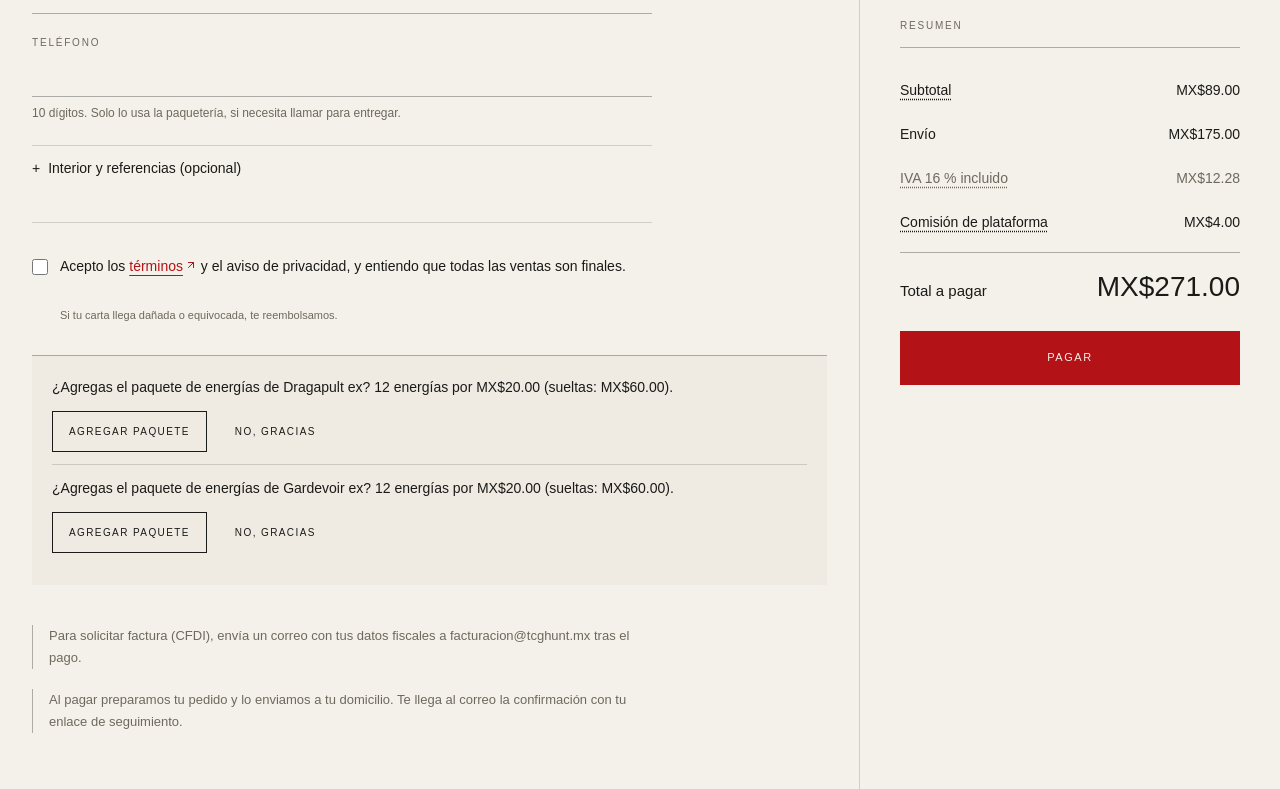
Test: AC-F5 · la oferta del paquete, una vez por deck › «Agregar paquete» pone withEnergyBundle:true y la fila no vuelve; «No, gracias» también la retira
(page scrolled)
Click the 1st button "Agregar paquete" at (129,431), box [52,411,207,452]
(page scrolled)
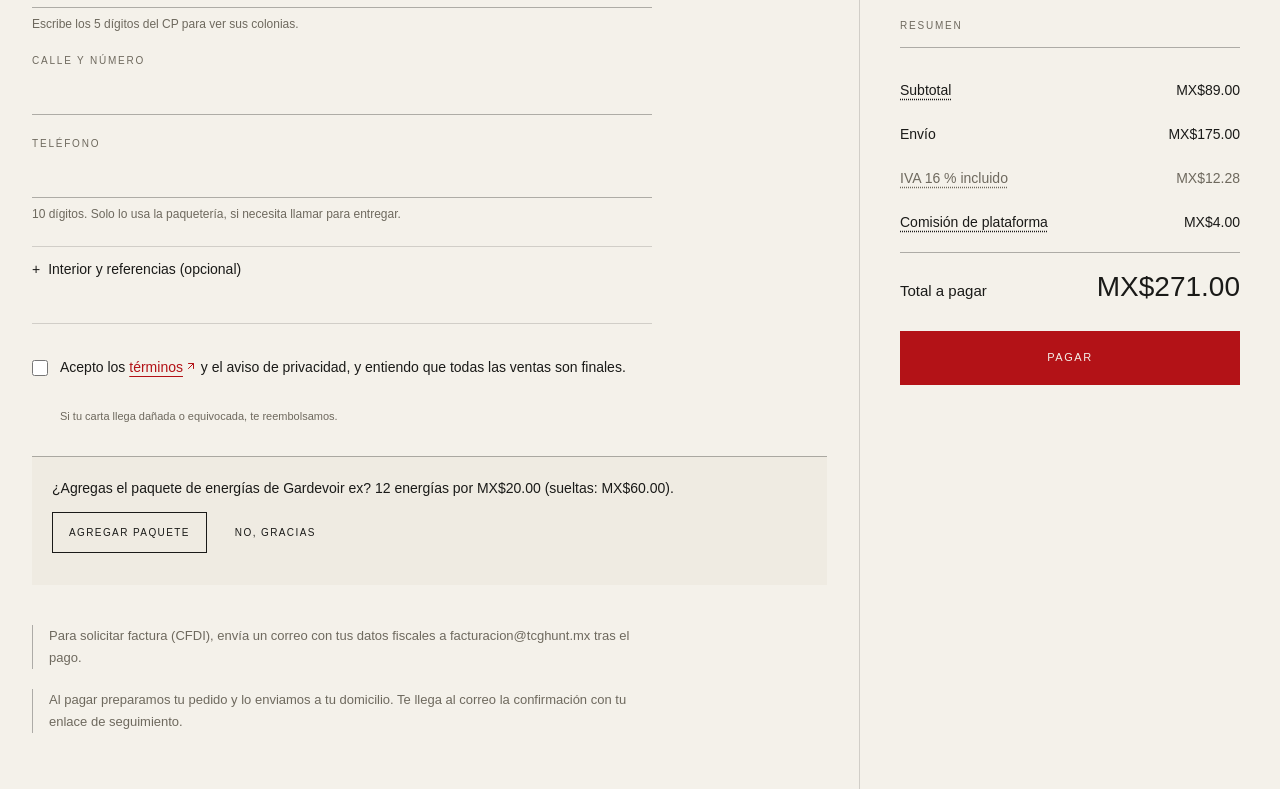
Click the button "No, gracias" at (275,532), box [219,512,332,553]
(page scrolled)
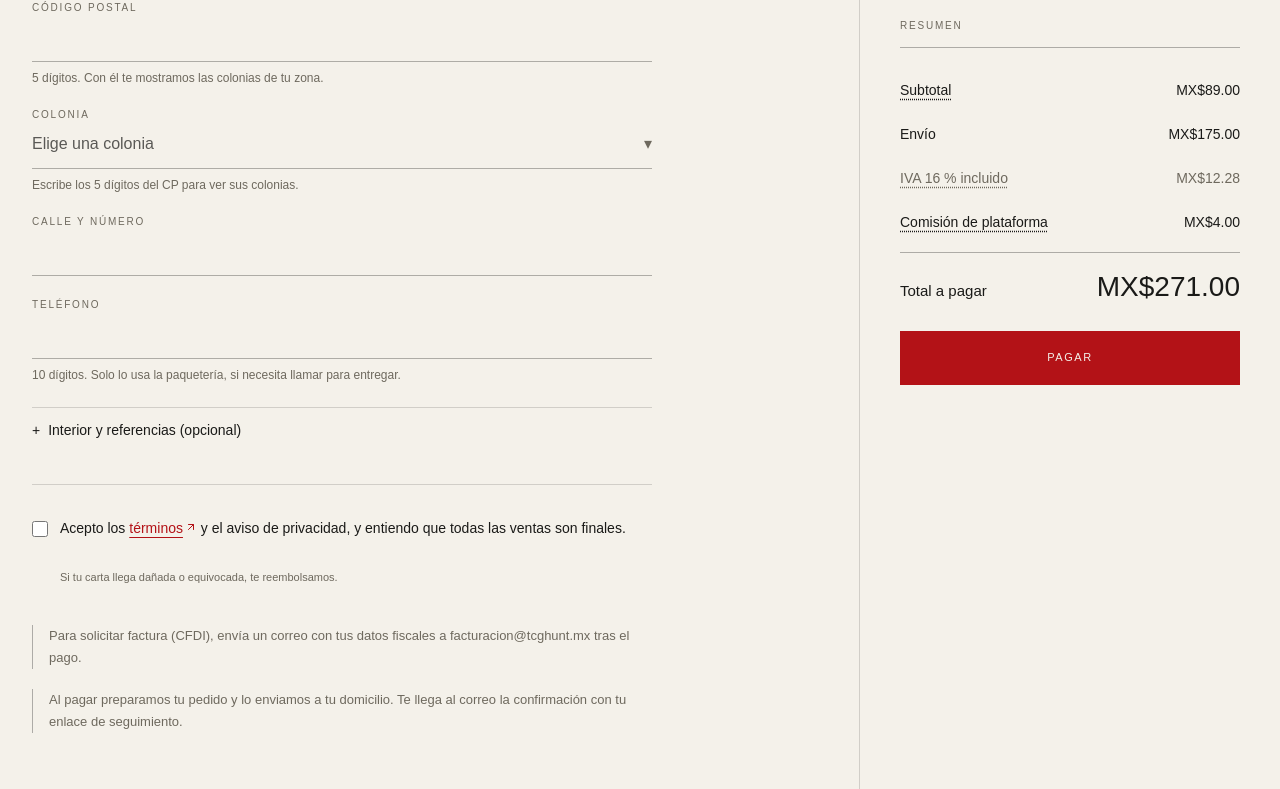
Check: the text "paquete de energías" is gone
